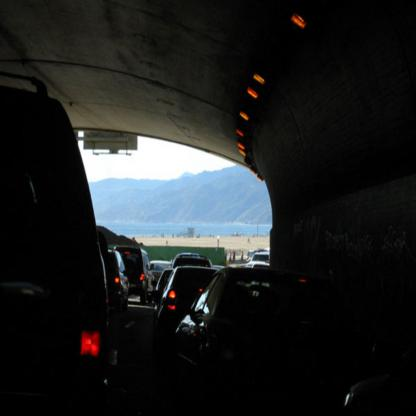Car: (1, 74, 310, 415)
